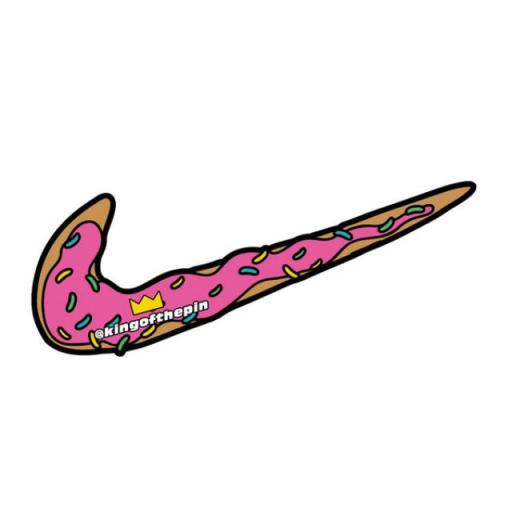Nike: (42, 202, 437, 350)
